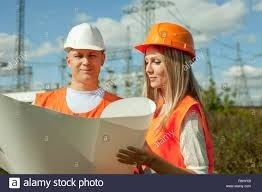helmet: (133, 21, 202, 56), (61, 20, 109, 53)
person with full safety: (117, 21, 216, 171), (35, 19, 126, 117)
safety vest: (148, 96, 208, 171), (36, 88, 124, 118)
